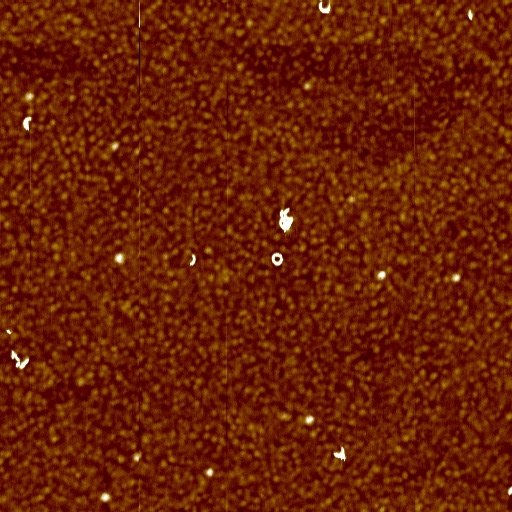-1: (273, 209, 294, 234), (10, 347, 22, 372), (18, 356, 32, 374), (204, 467, 216, 479), (101, 493, 113, 503), (376, 269, 386, 281), (452, 272, 462, 284), (464, 7, 473, 20), (114, 254, 124, 265), (304, 415, 314, 426), (506, 487, 512, 498)
1/4: (21, 116, 33, 133), (187, 252, 198, 268)
2/4: (331, 446, 347, 461)
3/4: (313, 0, 333, 15)
4/4: (270, 251, 284, 268)
